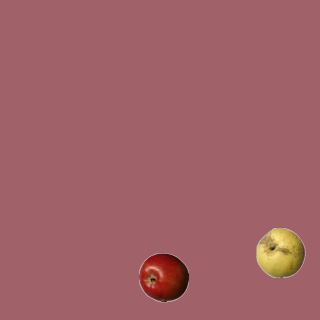Apple Braeburn: (138, 252, 188, 302)
Apple Golden 1: (255, 227, 305, 277)
